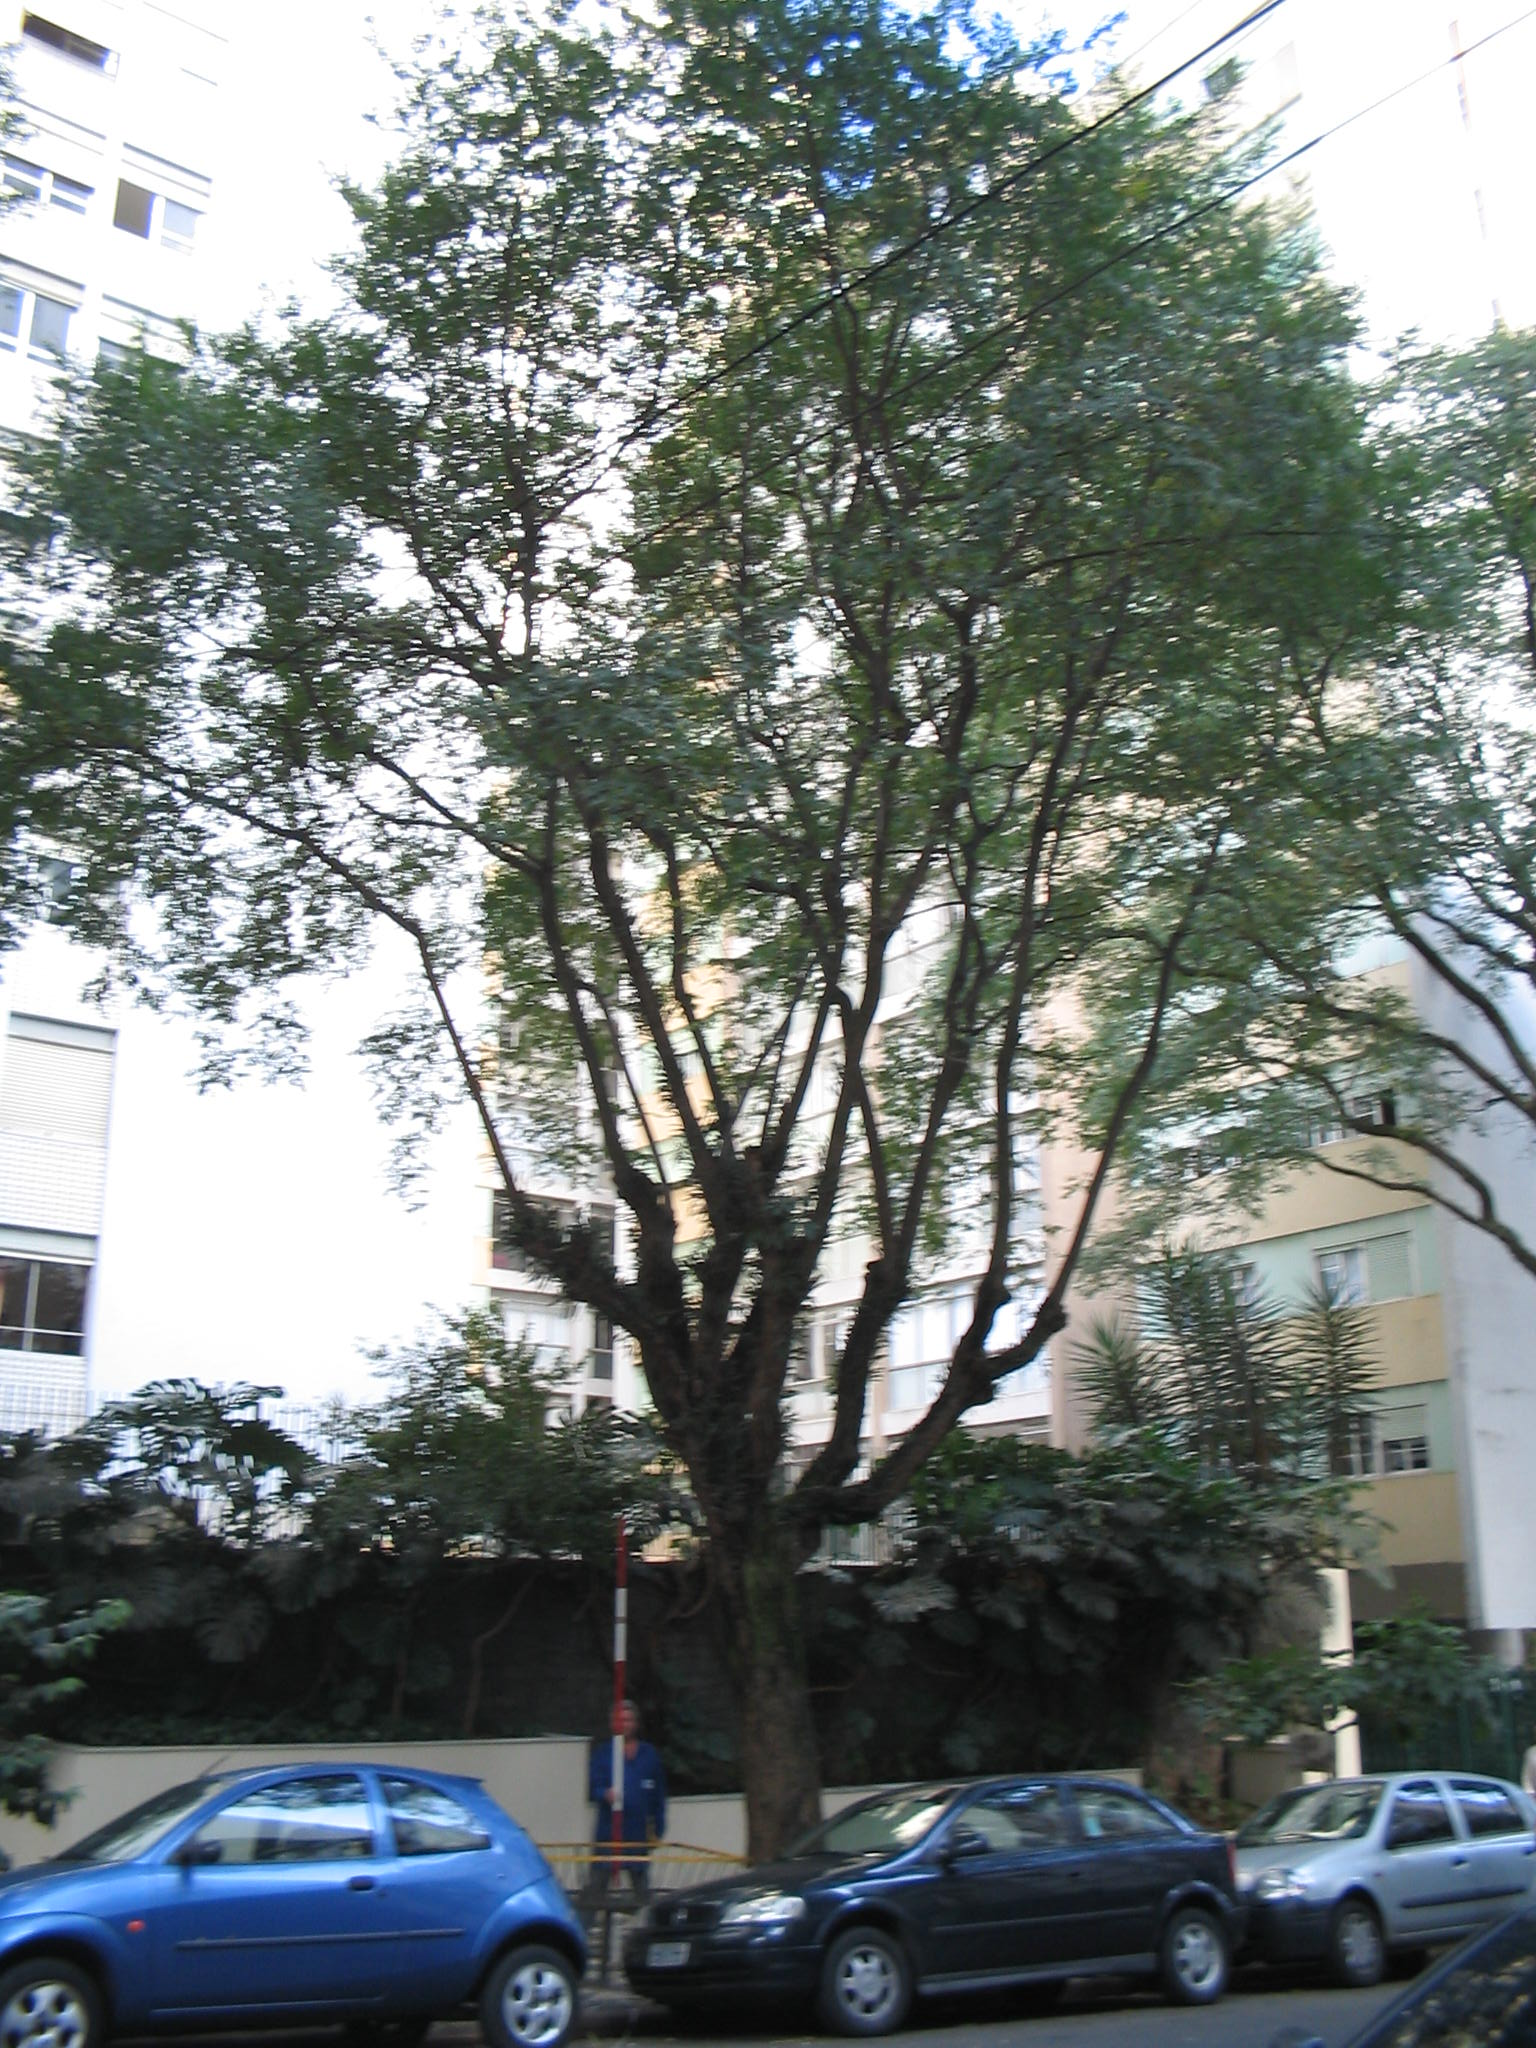crown: (3, 8, 1518, 1268)
stem: (679, 1542, 870, 1979)
stick: (586, 1516, 645, 1982)
tree: (2, 8, 1530, 1983)
